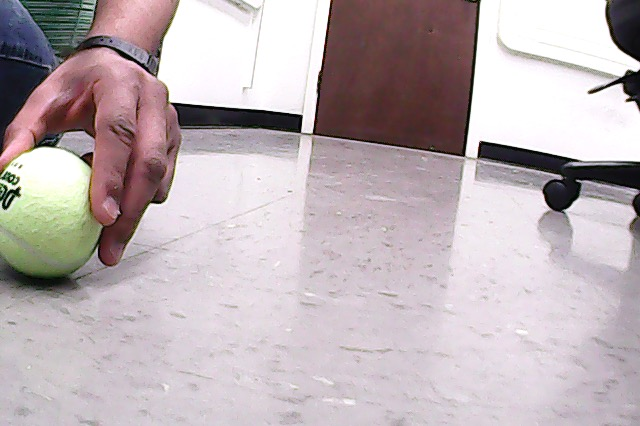ball: (1, 147, 104, 278)
